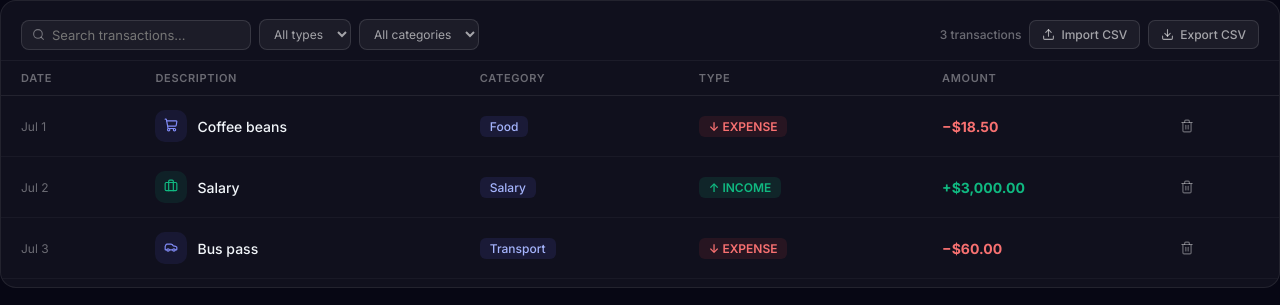
Test: TransactionTable filters › filters by type
Select "Income" in the 1st dropdown showing "All types" at (305, 34), box top-left (259, 19), bottom-right (351, 50)
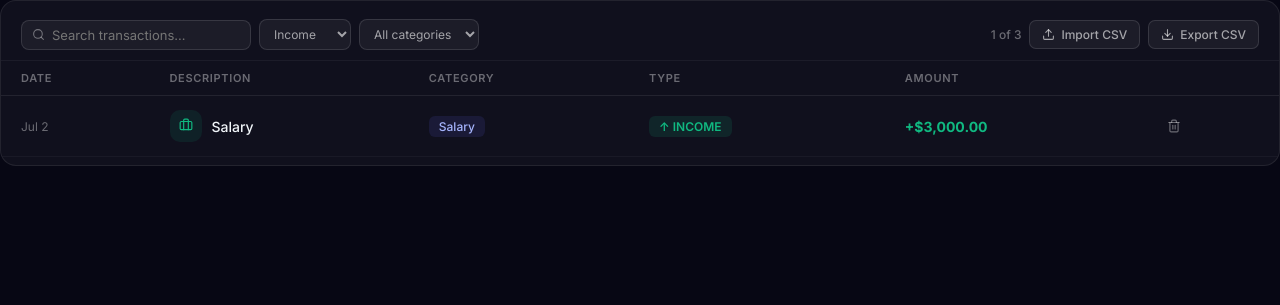
Expected: the text "Coffee beans" is gone
Expected: the text "Bus pass" is gone
